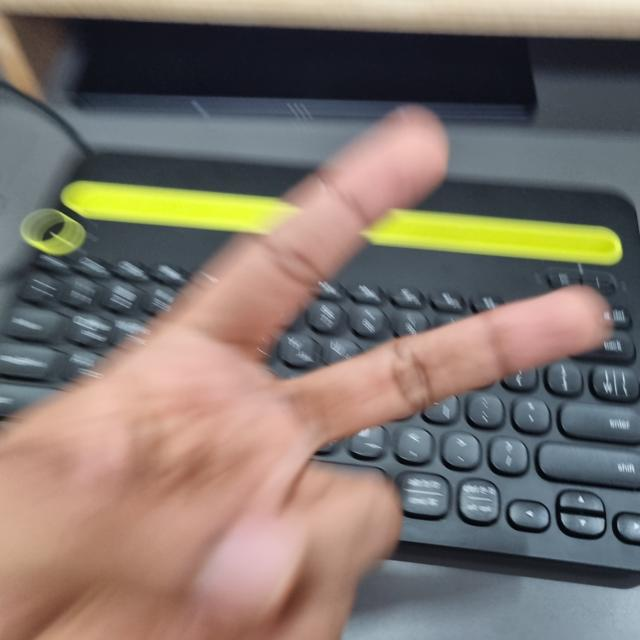Scissors: (0, 108, 603, 639)
